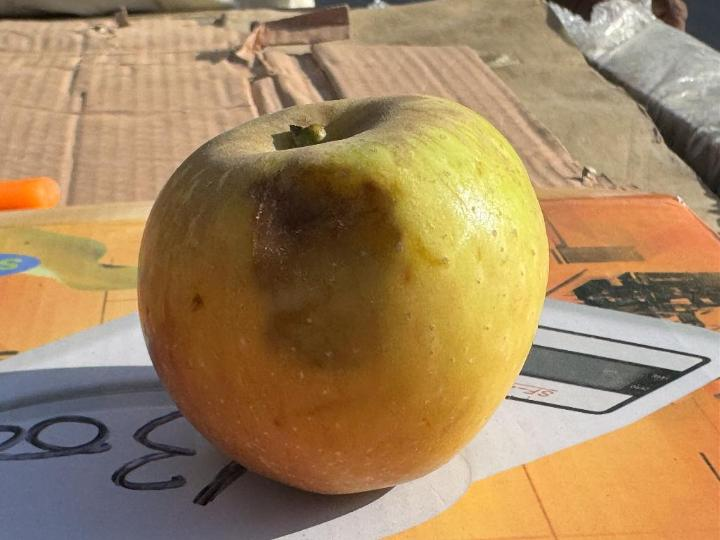apple: (137, 95, 548, 493)
bruise_discoloration: (252, 169, 389, 367)
